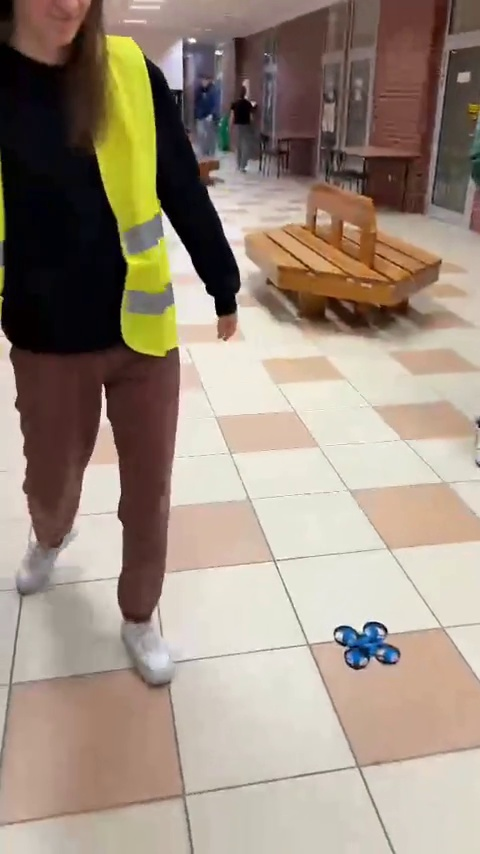drone: (331, 620, 399, 667)
no vest: (229, 85, 258, 176), (191, 72, 220, 162)
vest: (8, 2, 213, 695)
